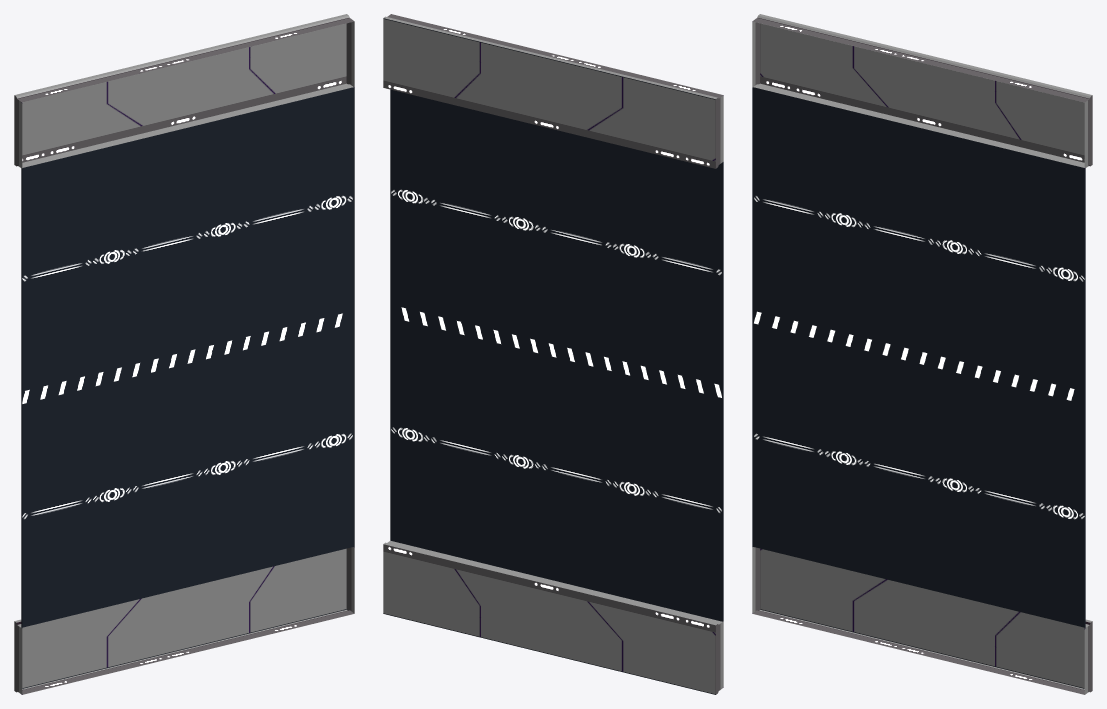
Rendered from SM_L_Road1.fbx.
3 views of the same model, side by side, from view 1: azimuth 30°, elevation 25°; view 2: azimuth 150°, elevation 25°; view 3: azimuth 330°, elevation 25° (orthographic).
Visible parts, largest first — view 1: SM_L_Road1; view 2: SM_L_Road1; view 3: SM_L_Road1.
Boxes of the visible parts, box(x1,y1,x2,y2) form: SM_L_Road1: box(14, 14, 354, 694); SM_L_Road1: box(383, 14, 723, 694); SM_L_Road1: box(752, 14, 1092, 694).
Size of the model in its own units: 2877 by 4923 by 119.
